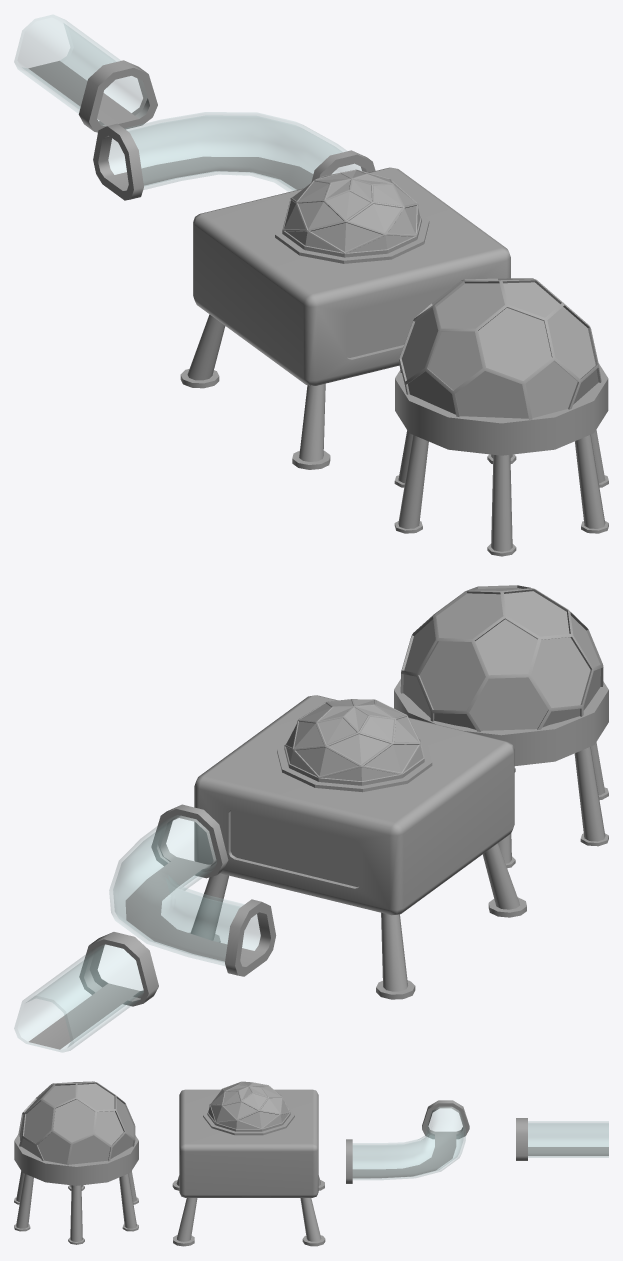
The model's file is Houses.fbx.
The picture shows the model from 3 angles, top to bottom: view 1: azimuth 30°, elevation 25°; view 2: azimuth 150°, elevation 25°; view 3: azimuth 270°, elevation 25°; orthographic projection. The views are drawn at different scales.
Parts seen in each view (by area): view 1: House1, House2, Tunnel_Curve, Tunnel_Straight; view 2: House1, House2, Tunnel_Curve, Tunnel_Straight; view 3: House1, House2, Tunnel_Curve, Tunnel_Straight.
Part boxes in pixels (x1,y1,x2,y2): House1: (180, 167, 510, 469); House2: (394, 278, 608, 556); Tunnel_Curve: (93, 112, 375, 200); Tunnel_Straight: (14, 15, 157, 132); House1: (189, 695, 526, 999); House2: (394, 585, 608, 868); Tunnel_Curve: (109, 804, 276, 976); Tunnel_Straight: (14, 932, 158, 1052); House1: (172, 1081, 325, 1246); House2: (14, 1081, 138, 1244); Tunnel_Curve: (346, 1100, 469, 1183); Tunnel_Straight: (516, 1118, 608, 1160).
Size of the model in its own units: 16.46 by 15.55 by 64.
